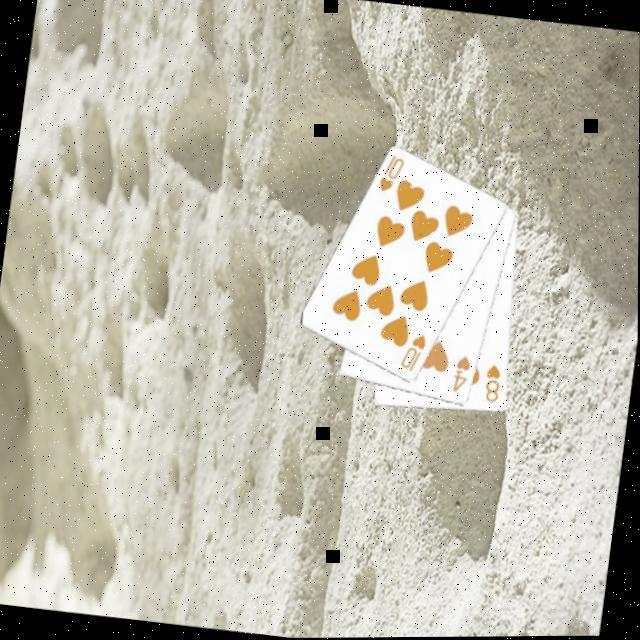10H: (396, 329, 429, 375), (374, 150, 406, 196)
4H: (449, 352, 474, 396)
8H: (480, 360, 505, 405)
